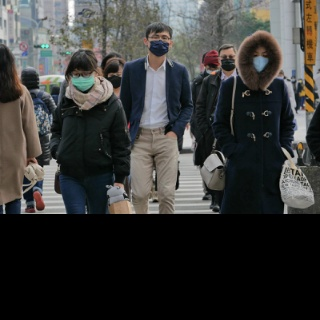with_mask: (147, 33, 170, 57), (71, 69, 94, 92), (251, 50, 270, 73), (106, 71, 123, 90), (220, 52, 236, 72), (204, 65, 221, 76), (292, 78, 296, 82)
